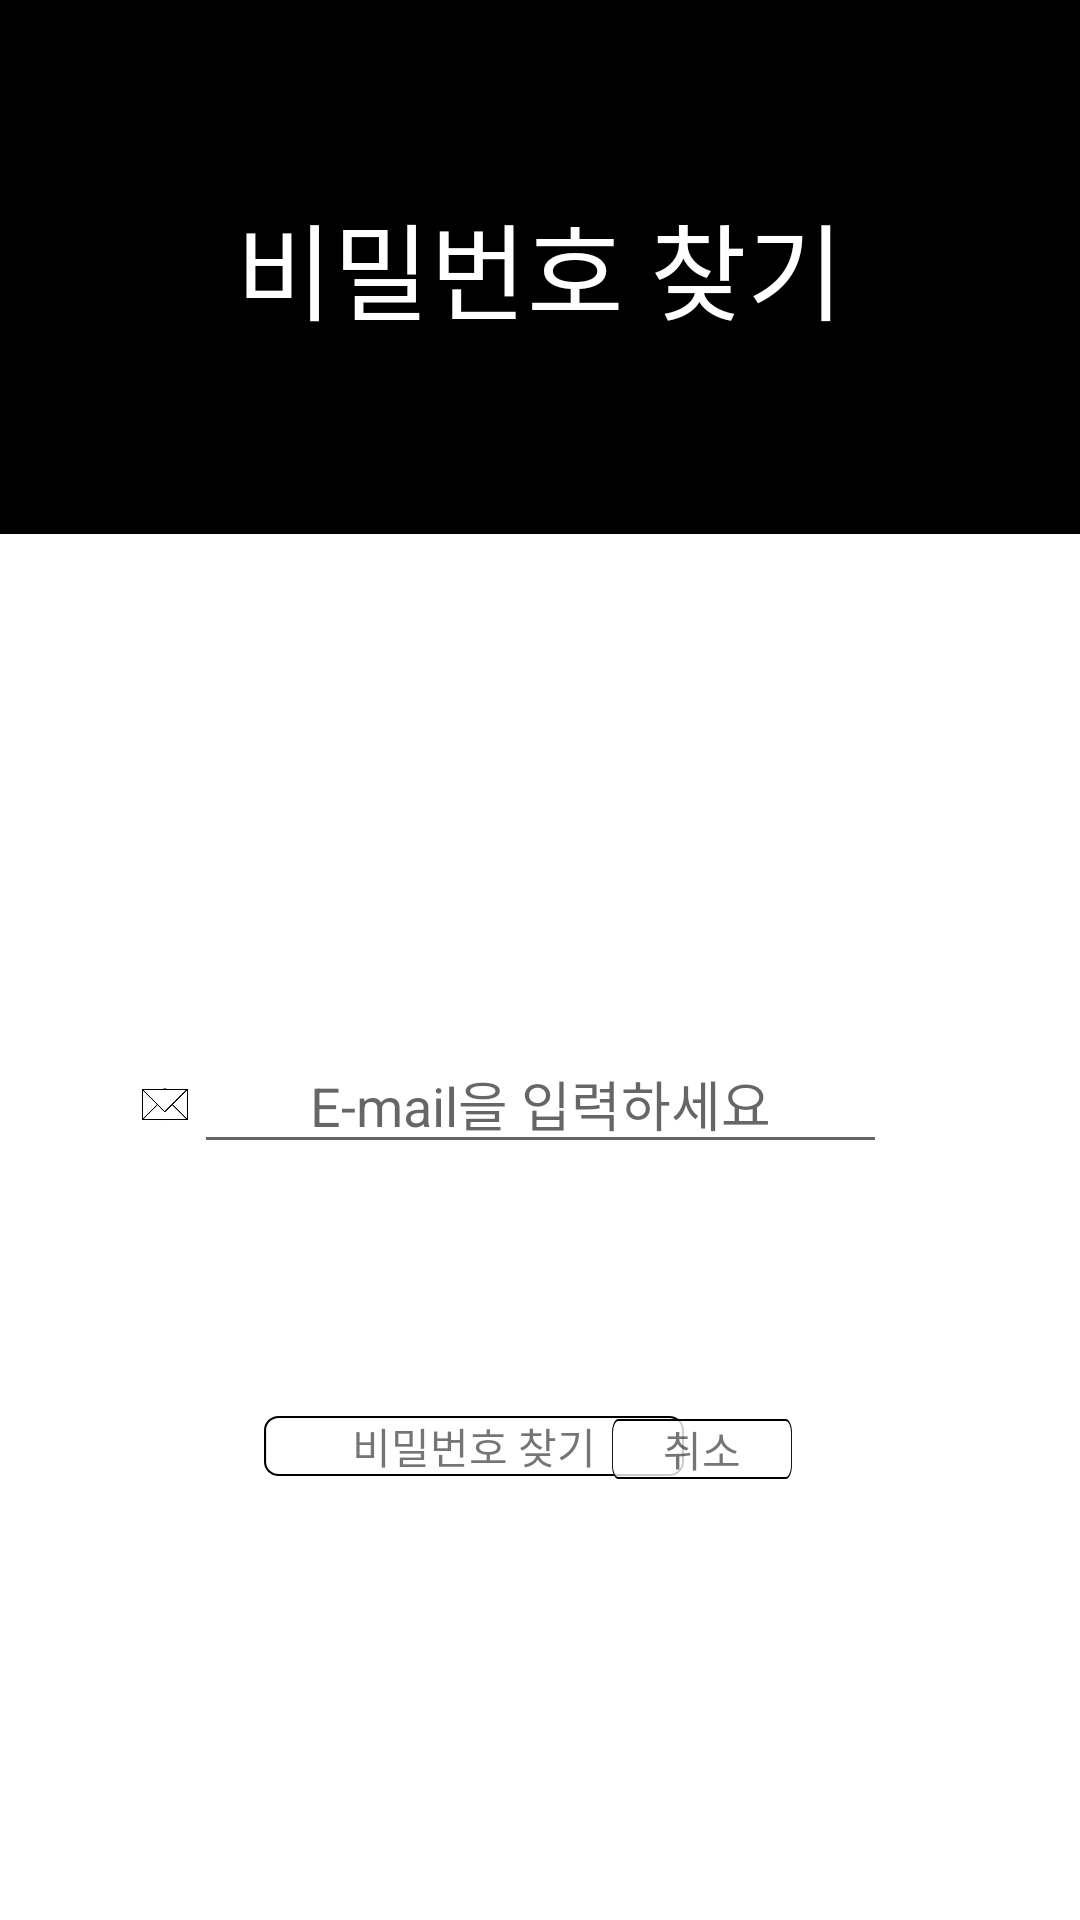

Where icons sit on this 1080 × 1920 app screen, as (x1,y1,x2,y2):
letter: (142,1088,188,1120)
